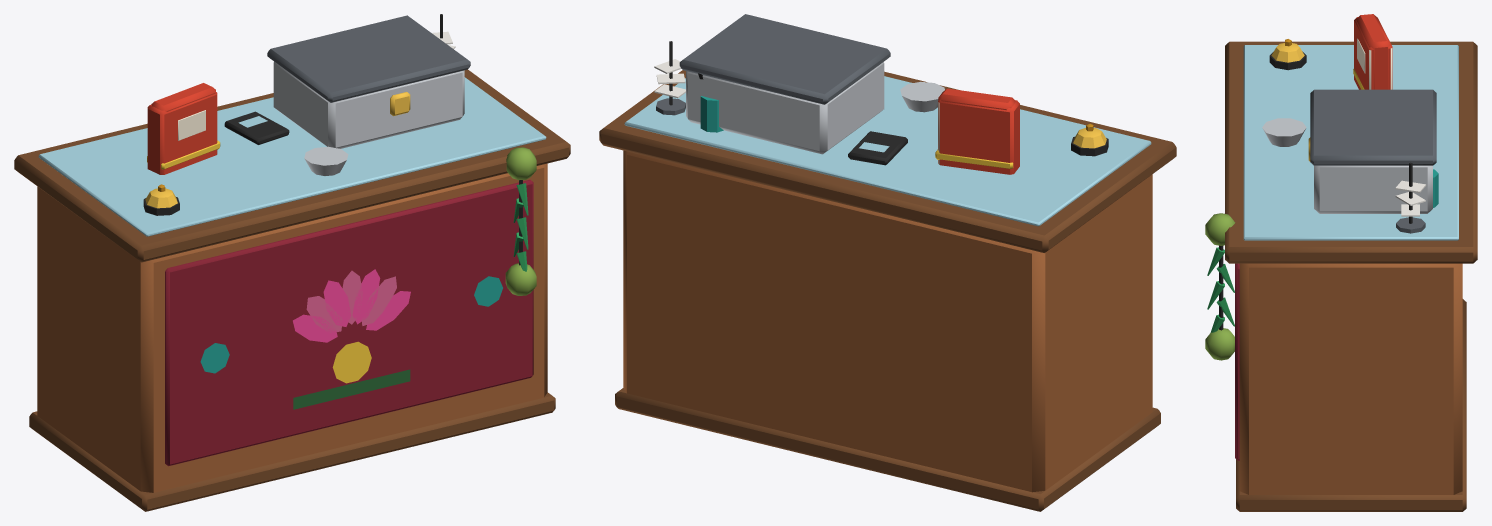
Rendered from galla_desk.glb.
3 renders of one model, left to right at view 1: azimuth 30°, elevation 25°; view 2: azimuth 150°, elevation 25°; view 3: azimuth 270°, elevation 25°, orthographic. The views are drawn at different scales.
Visible parts, largest first — view 1: galla_desk; view 2: galla_desk; view 3: galla_desk.
Part boxes in pixels (<box>): galla_desk: <box>14,14,570,511</box>; galla_desk: <box>599,14,1176,511</box>; galla_desk: <box>1205,14,1477,511</box>.
Bounding box in the file's own units: 1.33 × 1 × 0.7328.
1 material, 1 textured.
